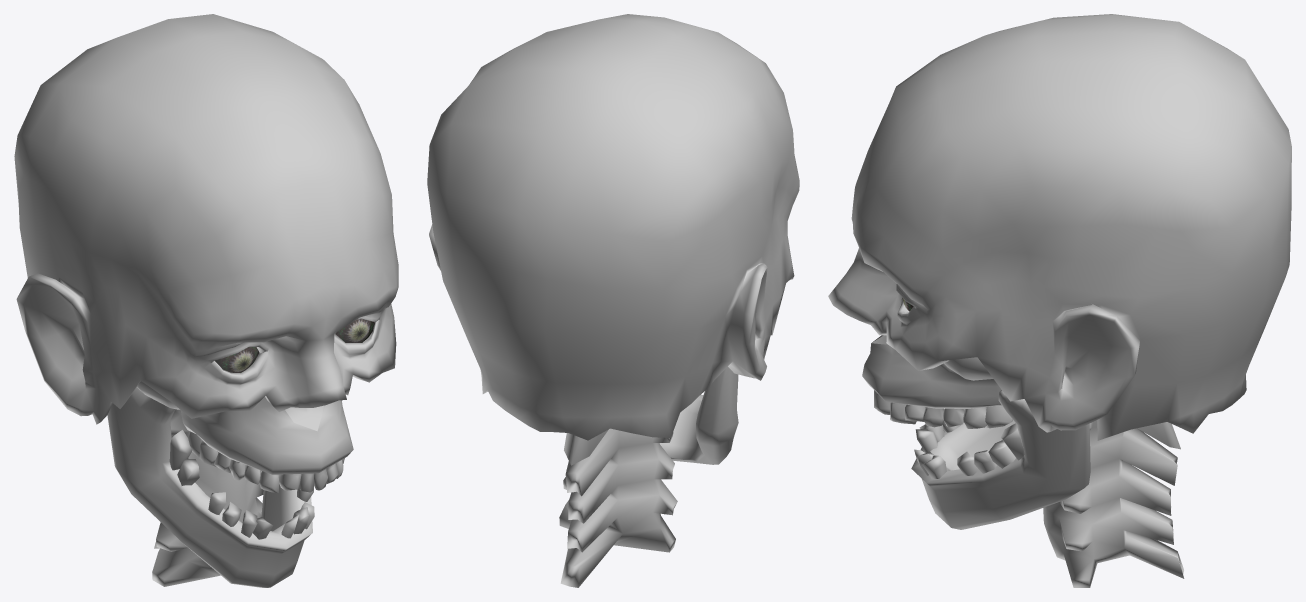
The model's file is Head_03.fbx.
3 views of the same model, side by side, from view 1: azimuth 30°, elevation 25°; view 2: azimuth 150°, elevation 25°; view 3: azimuth 270°, elevation 25° (orthographic). The views are drawn at different scales.
Parts seen in each view (by area): view 1: Head_03; view 2: Head_03; view 3: Head_03.
Part boxes in pixels (x1=…): Head_03: x1=14, y1=14, x2=398, y2=587; Head_03: x1=427, y1=14, x2=799, y2=587; Head_03: x1=828, y1=14, x2=1291, y2=587.
Size of the model in its own units: 17.79 by 27.16 by 20.99.
